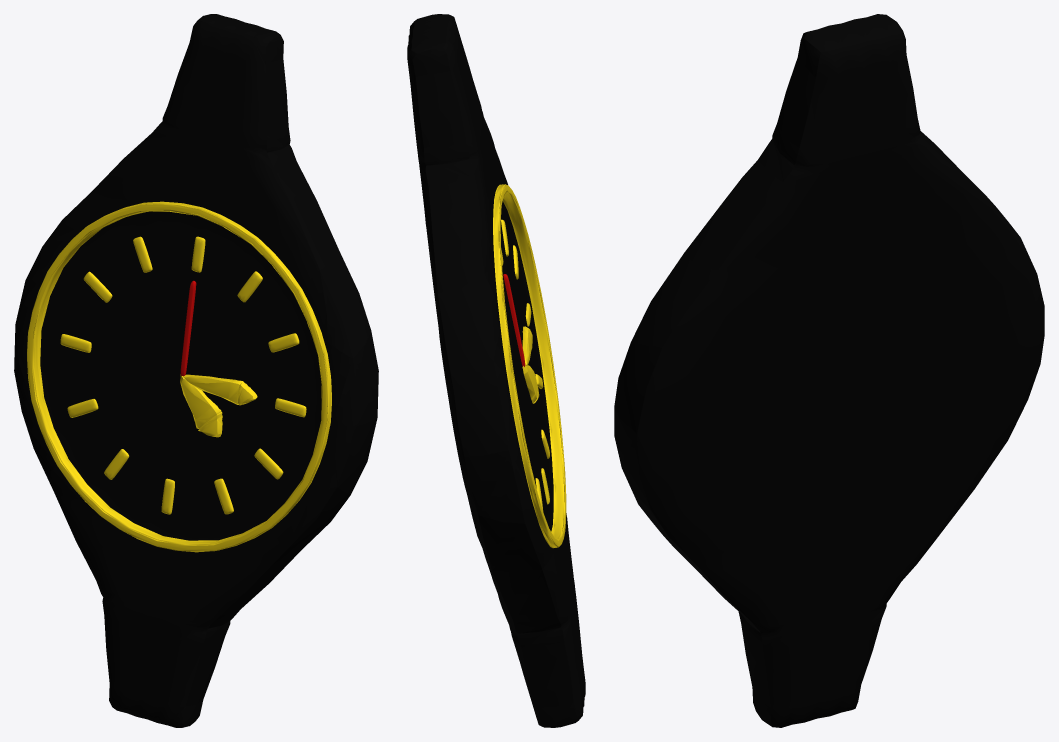
3 renders of one model, left to right at view 1: azimuth 30°, elevation 25°; view 2: azimuth 150°, elevation 25°; view 3: azimuth 270°, elevation 25°, orthographic. The views are drawn at different scales.
Visible parts, largest first — view 1: Elec_SF_006; view 2: Elec_SF_006; view 3: Elec_SF_006.
Boxes of the visible parts, x1,y1,x2,y2 form: Elec_SF_006: (14, 14, 378, 727); Elec_SF_006: (407, 14, 585, 727); Elec_SF_006: (614, 14, 1044, 727).
Bounding box in the file's own units: 14.39 × 22.67 × 43.26.
